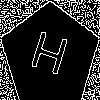H: (25, 30, 71, 85)
